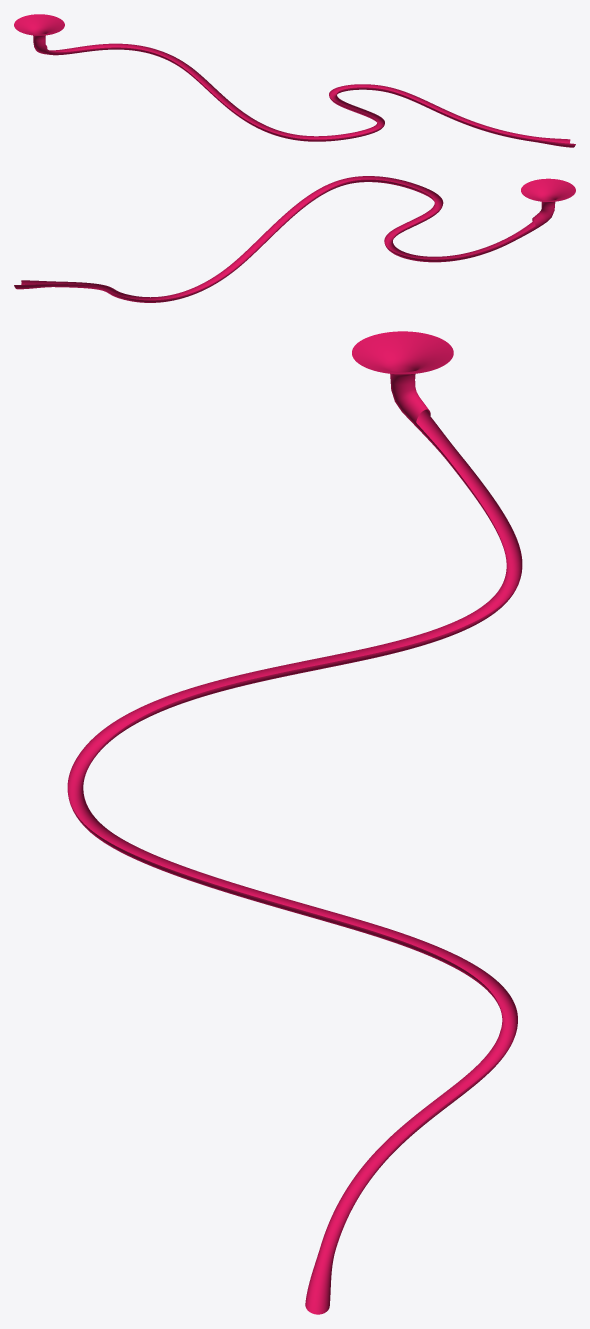
3 views of the same model, one above another, from view 1: azimuth 30°, elevation 25°; view 2: azimuth 150°, elevation 25°; view 3: azimuth 270°, elevation 25° (orthographic). The views are drawn at different scales.
Parts seen in each view (by area): view 1: Object_1, Object_2; view 2: Object_1, Object_2; view 3: Object_1, Object_2.
Boxes of the visible parts, box(x1,y1,x2,y2) form: Object_1: box(14, 14, 575, 147); Object_2: box(15, 14, 573, 147); Object_1: box(14, 176, 575, 302); Object_2: box(14, 176, 575, 302); Object_1: box(67, 331, 522, 1314); Object_2: box(68, 331, 521, 1313).
Bounding box in the file's own units: 15608 × 5749 × 6454.
